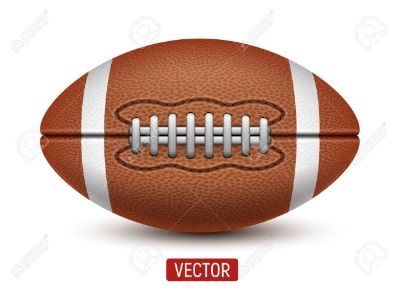futbol americano: (40, 38, 360, 234)
